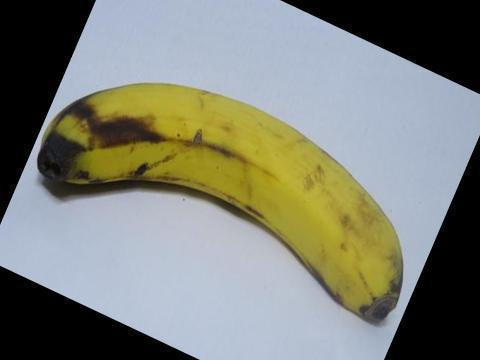ripe: (22, 73, 419, 329)
